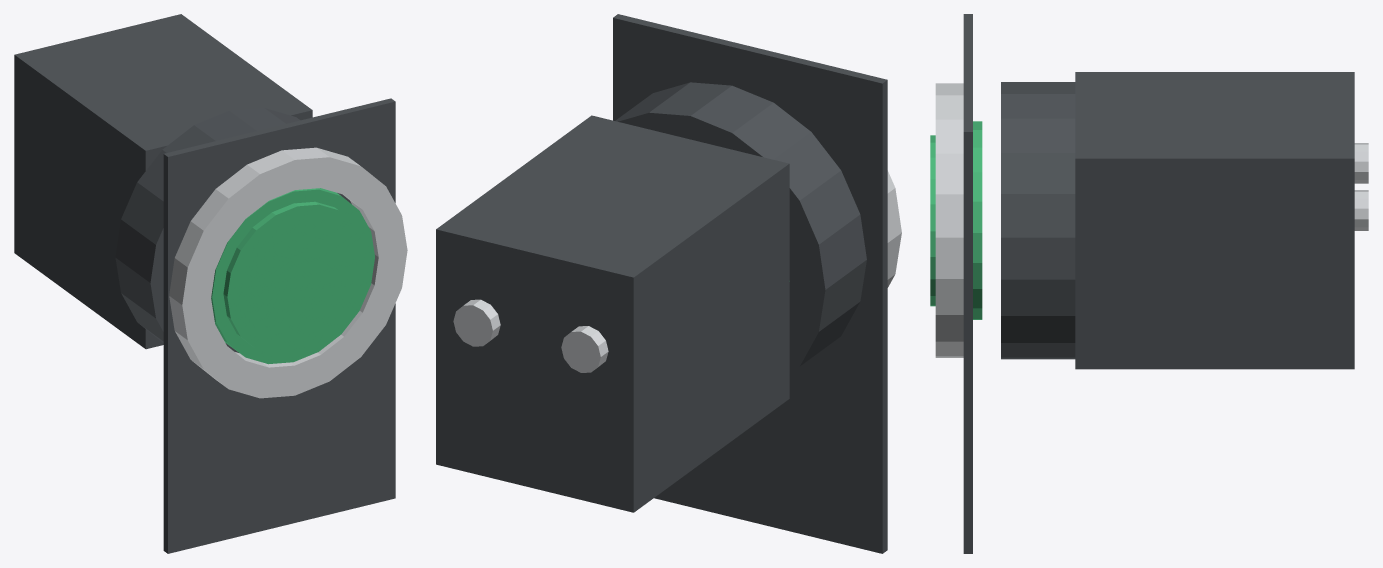
3 views of the same model, side by side, from view 1: azimuth 30°, elevation 25°; view 2: azimuth 150°, elevation 25°; view 3: azimuth 270°, elevation 25° (orthographic). The views are drawn at different scales.
Visible parts, largest first — view 1: body, self; view 2: body; view 3: body, self.
Part boxes in pixels (box(x1,y1,x2,y2)): body: box(14, 14, 407, 553); self: box(211, 188, 374, 364); body: box(436, 14, 901, 553); body: box(935, 14, 1368, 553); self: box(930, 121, 982, 319).
Size of what is drawn, in the model's own units: 0.03 by 0.05 by 0.0471.
